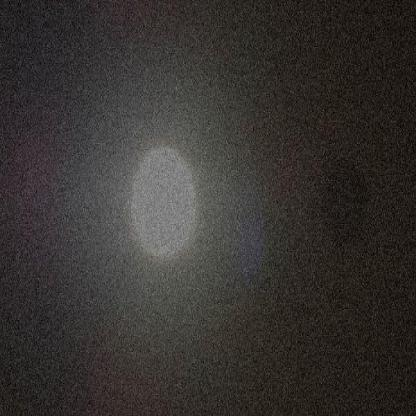light_off: (298, 115, 373, 269)
